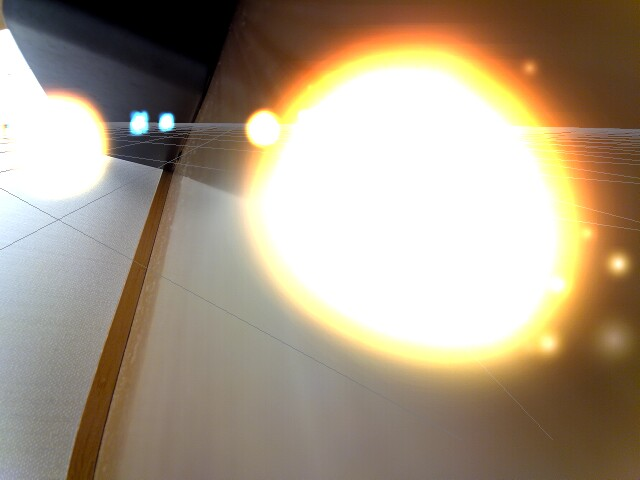firebig: (271, 27, 584, 369)
